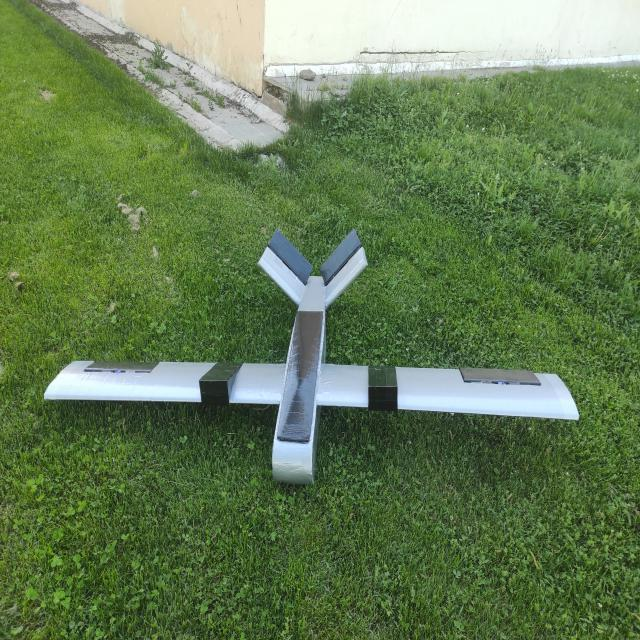iha: (39, 225, 588, 496)
